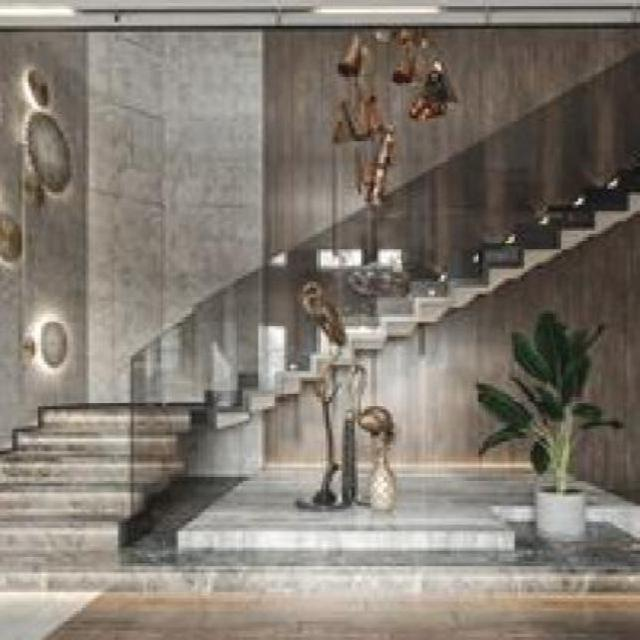stair: (2, 332, 198, 592)
